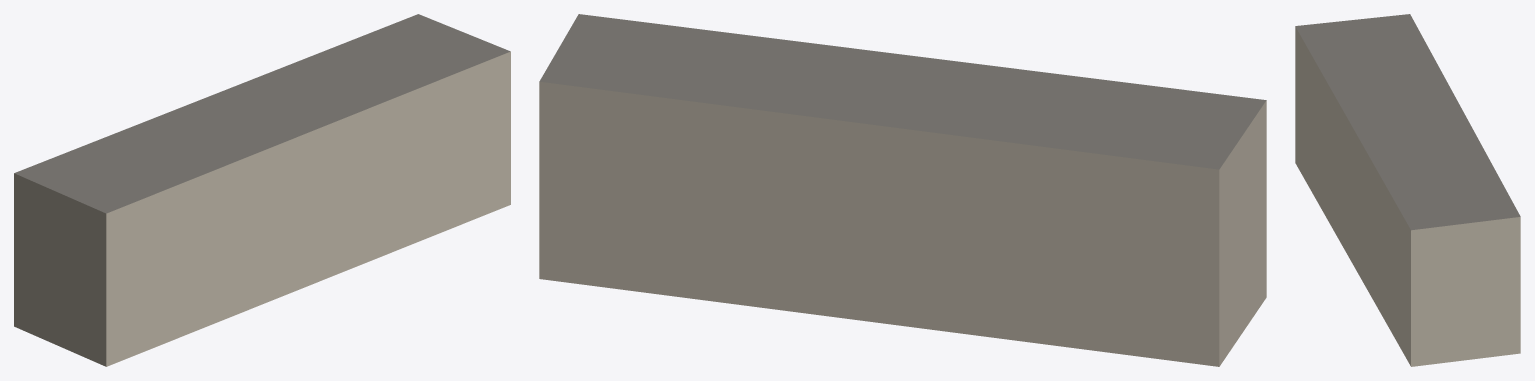
3 renders of one model, left to right at view 1: azimuth 30°, elevation 25°; view 2: azimuth 150°, elevation 25°; view 3: azimuth 270°, elevation 25°, orthographic. The views are drawn at different scales.
Visible parts, largest first — view 1: HP-w505661366; view 2: HP-w505661366; view 3: HP-w505661366.
Part boxes in pixels (bbox=[...]): HP-w505661366: bbox=[14, 14, 510, 366]; HP-w505661366: bbox=[539, 14, 1266, 366]; HP-w505661366: bbox=[1295, 14, 1520, 366].
Bounding box in the file's own units: 40.72 × 12 × 17.95.
